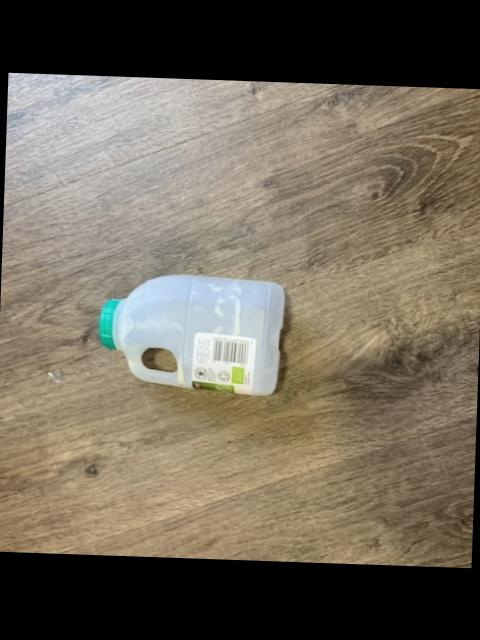plastic: (98, 276, 283, 395)
